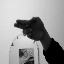h: (13, 15, 48, 42)
